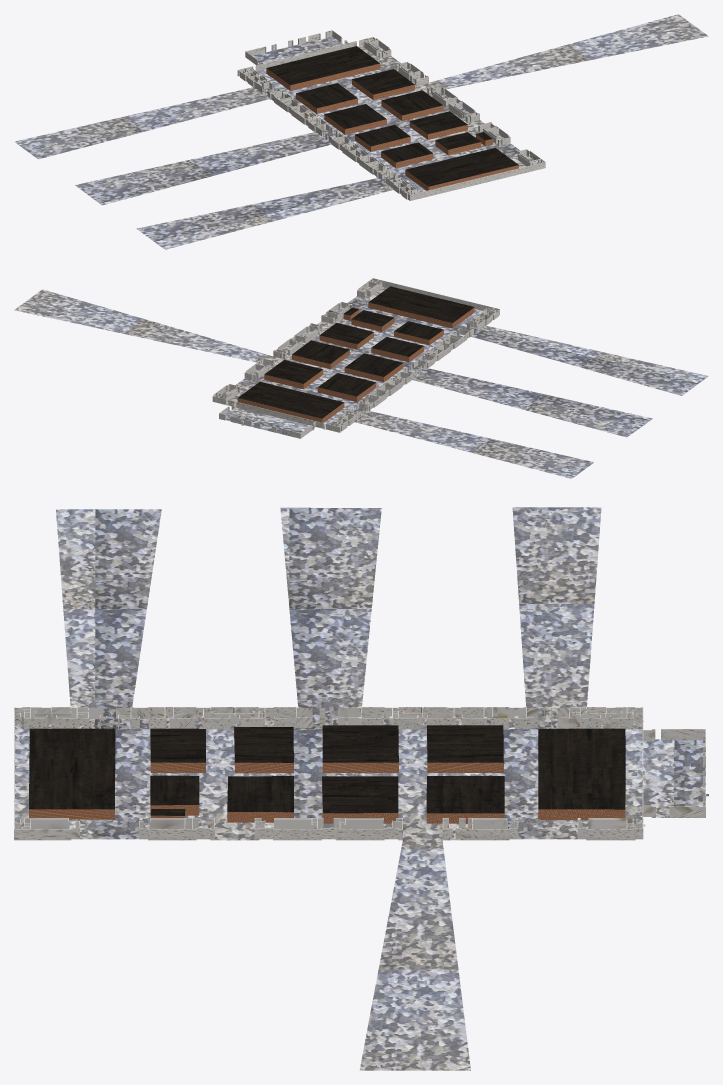
Rendered from port3.dae.
The picture shows the model from 3 angles, top to bottom: view 1: azimuth 30°, elevation 25°; view 2: azimuth 150°, elevation 25°; view 3: azimuth 270°, elevation 25°; orthographic projection. The views are drawn at different scales.
Parts seen in each view (by area): view 1: Curve_014; view 2: Curve_014; view 3: Curve_014.
Boxes of the visible parts, box(x1,y1,x2,y2) form: Curve_014: box(14, 14, 708, 249); Curve_014: box(14, 278, 708, 478); Curve_014: box(14, 507, 708, 1070).
Bounding box in the file's own units: 345 × 180 × 3.29.
Materials: 4 (4 with a texture image).
